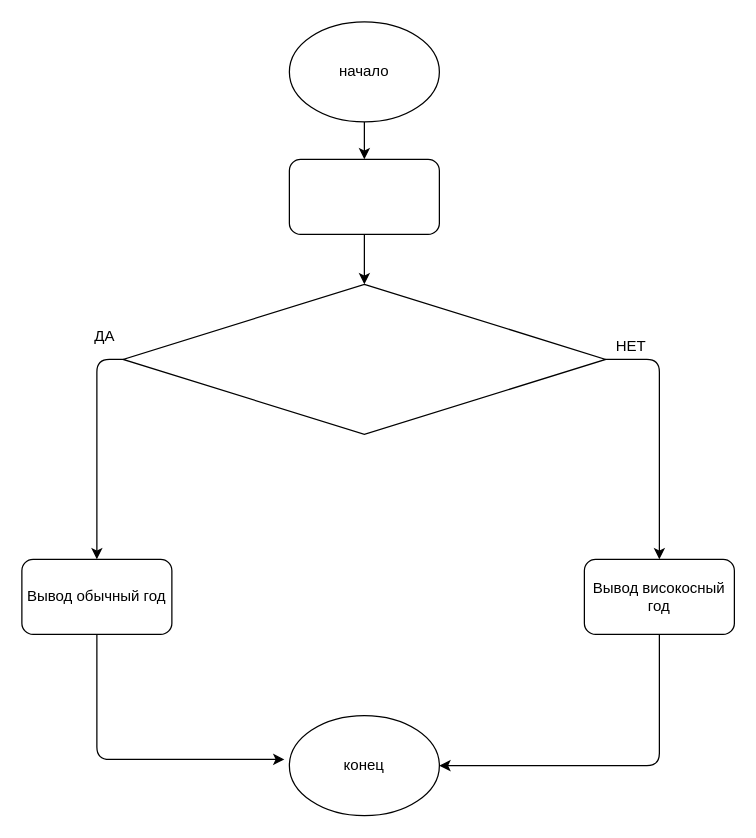
Image size: 756x838. Some labels were removed from this diagram. The box of each missing label's shape, as (x1, y1, x2, y2) in pixels:
year % 4 != 0 or (year % 100 == 0 and year % 400 != 0 ): (122, 283, 606, 434)
Пользователь вводит год: (288, 158, 439, 234)
